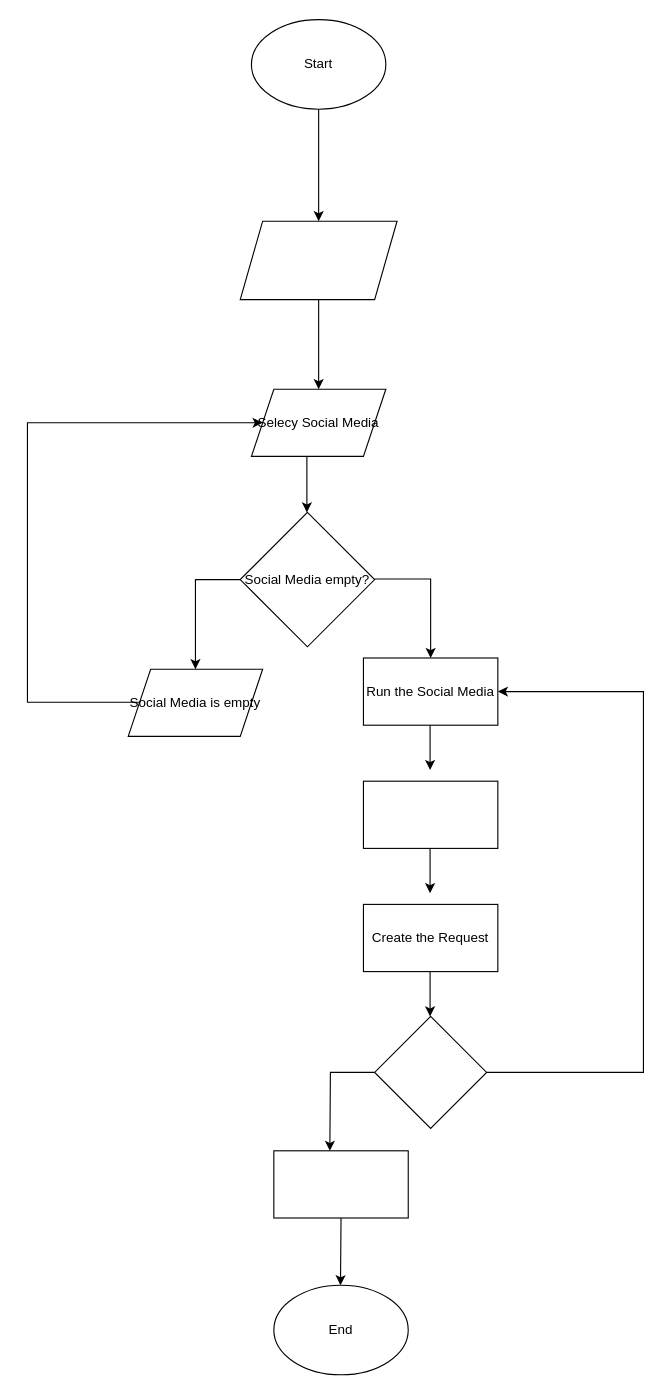
Image size: 672x1394. Some labels were removed from this diagram. Here are the shapes that lost their labels. From the top down, the centre of each, then its label:
At pixel 318 260: "Introduce the username".
At pixel 430 814: "Build the URL".
At pixel 430 1071: "More Social Media".
At pixel 340 1184: "Show the results".
